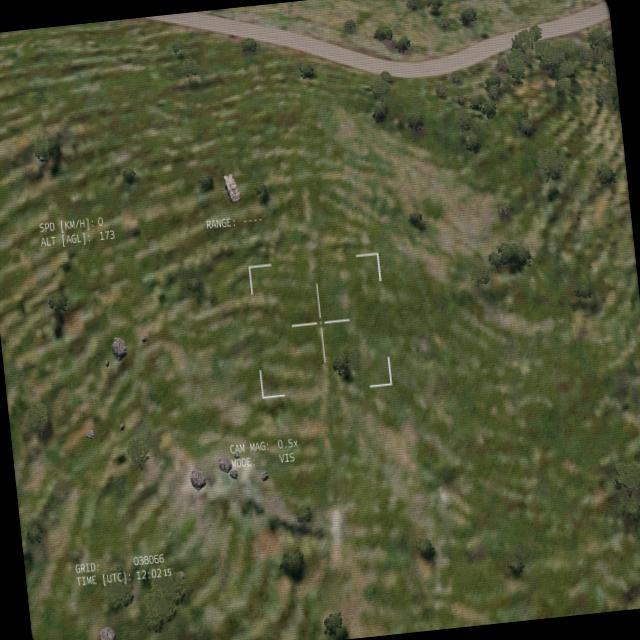apc: (221, 170, 241, 203)
